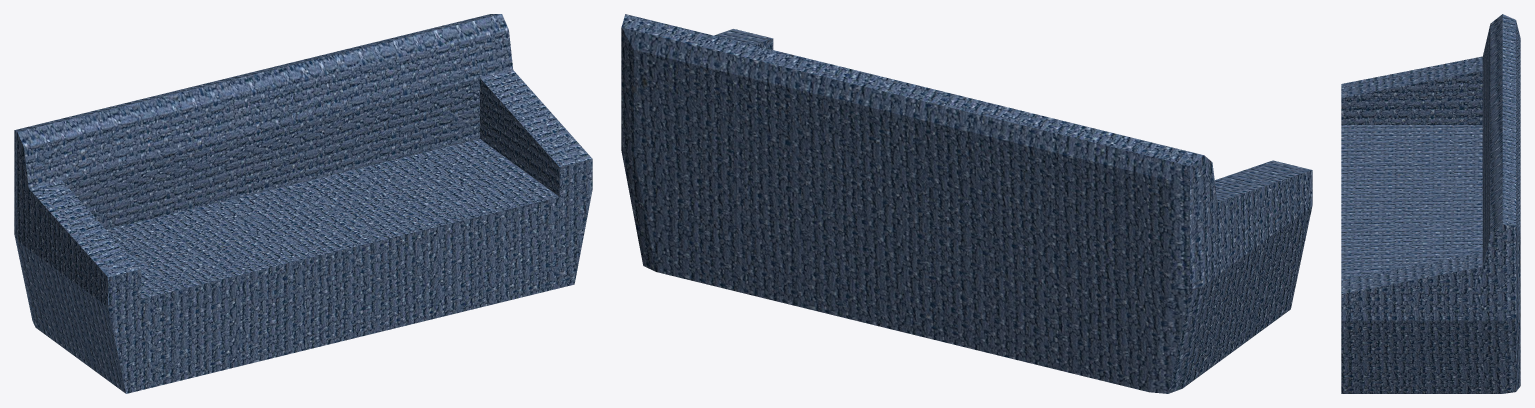
File: Sofa.fbx
The picture shows the model from 3 angles, left to right: view 1: azimuth 30°, elevation 25°; view 2: azimuth 150°, elevation 25°; view 3: azimuth 270°, elevation 25°; orthographic projection. The views are drawn at different scales.
Parts seen in each view (by area): view 1: Sofa; view 2: Sofa; view 3: Sofa.
Boxes of the visible parts, x1=… form: Sofa: x1=14, y1=14, x2=592, y2=393; Sofa: x1=621, y1=14, x2=1312, y2=393; Sofa: x1=1341, y1=14, x2=1520, y2=393.
Size of the model in its own units: 98.43 by 35.43 by 38.77.
1 material, 1 textured.
